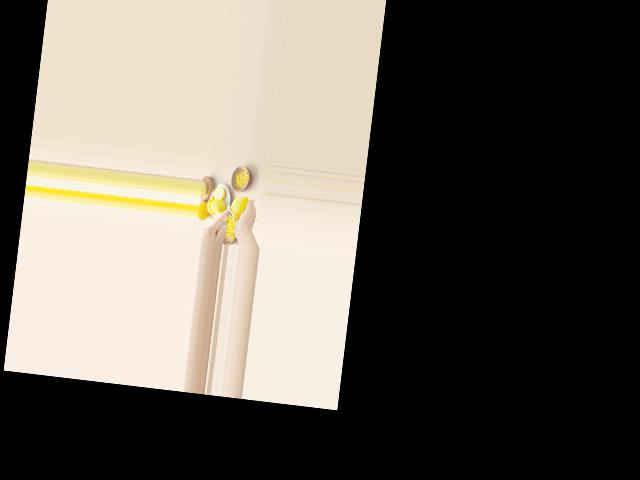lemon: (228, 195, 252, 222)
